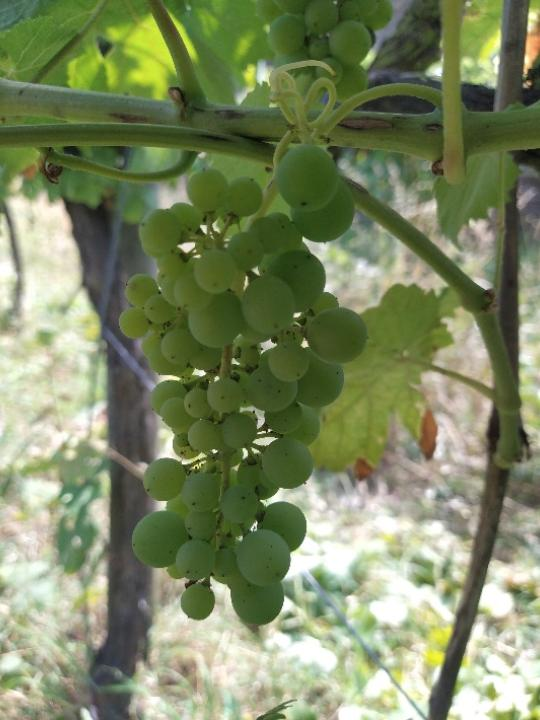grape: (113, 131, 375, 631)
